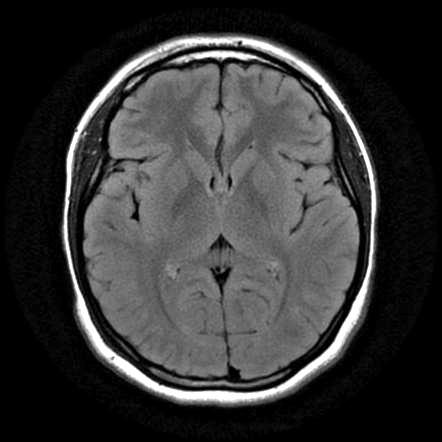Normal_Brain: (25, 1, 432, 442)
